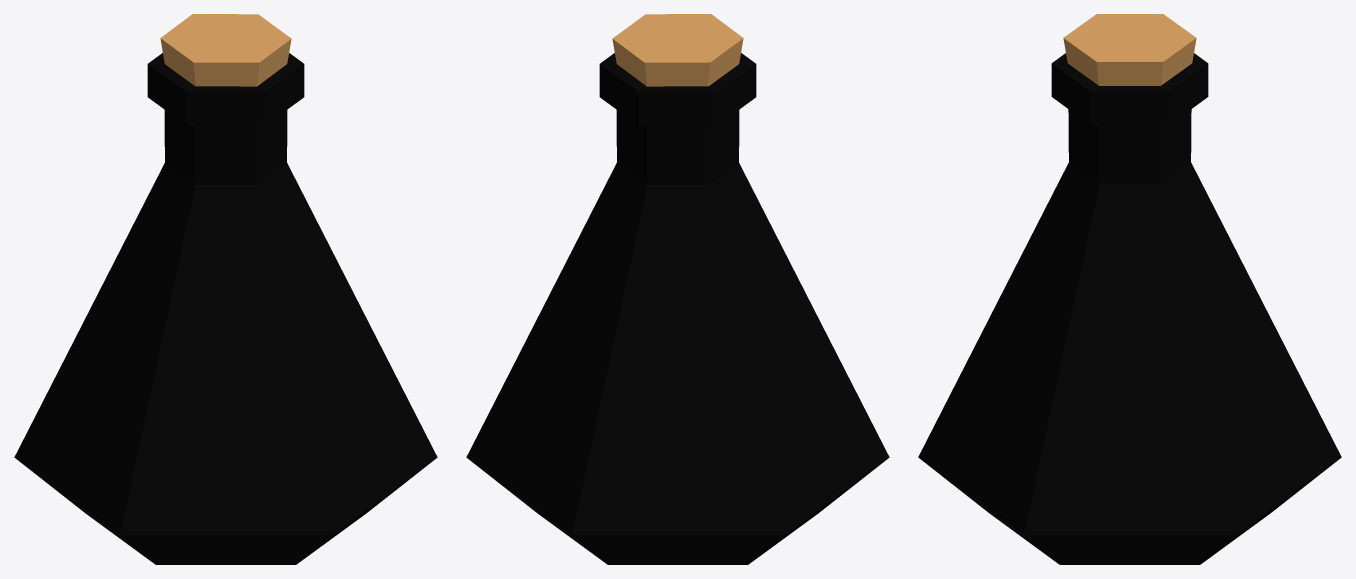
Rendered from frost potion.fbx.
3 renders of one model, left to right at view 1: azimuth 30°, elevation 25°; view 2: azimuth 150°, elevation 25°; view 3: azimuth 270°, elevation 25°, orthographic.
Visible parts, largest first — view 1: Kaca, Penutup; view 2: Kaca, Penutup; view 3: Kaca, Penutup.
Part boxes in pixels (x1,y1,x2,y2): Kaca: [14, 53, 437, 564]; Penutup: [160, 14, 291, 86]; Kaca: [466, 53, 889, 564]; Penutup: [612, 14, 743, 86]; Kaca: [918, 53, 1341, 564]; Penutup: [1063, 14, 1196, 85].
Bounding box in the file's own units: 415 × 593 × 479.
2 materials, 1 textured.
